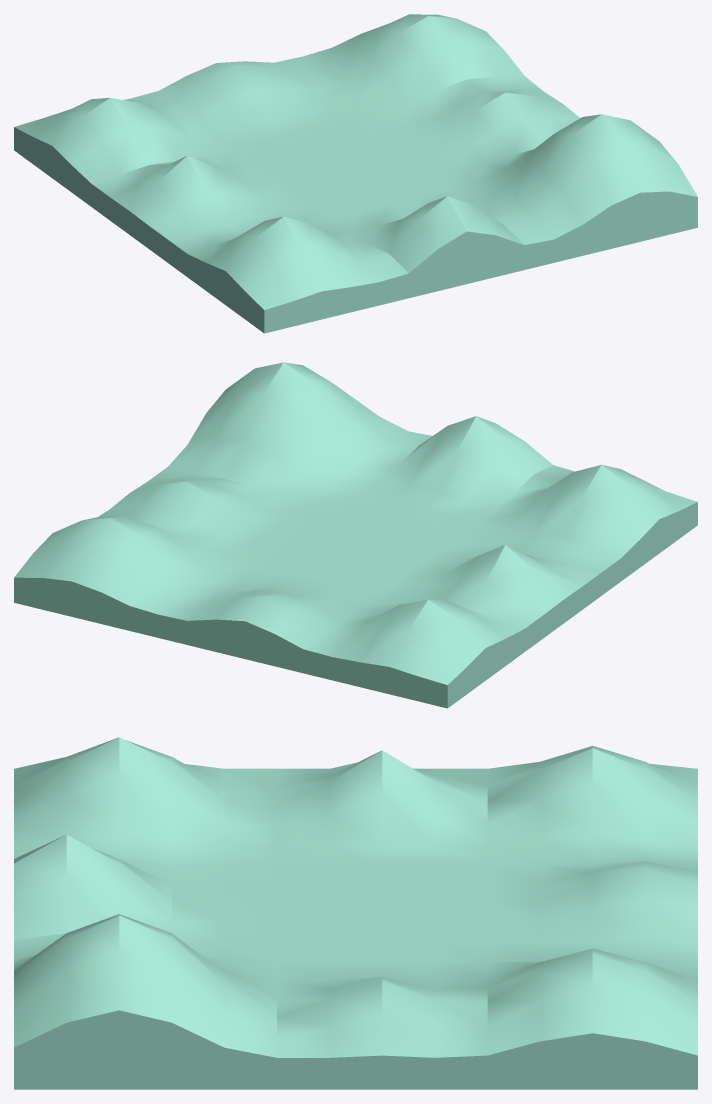
The picture shows the model from 3 angles, top to bottom: view 1: azimuth 30°, elevation 25°; view 2: azimuth 150°, elevation 25°; view 3: azimuth 270°, elevation 25°; orthographic projection. The views are drawn at different scales.
Visible parts, largest first — view 1: base; view 2: base; view 3: base.
Part boxes in pixels (<box>): base: <box>14,14,697,333</box>; base: <box>14,362,697,708</box>; base: <box>14,737,697,1089</box>.
Bounding box in the file's own units: 8360 × 1831 × 8360.
